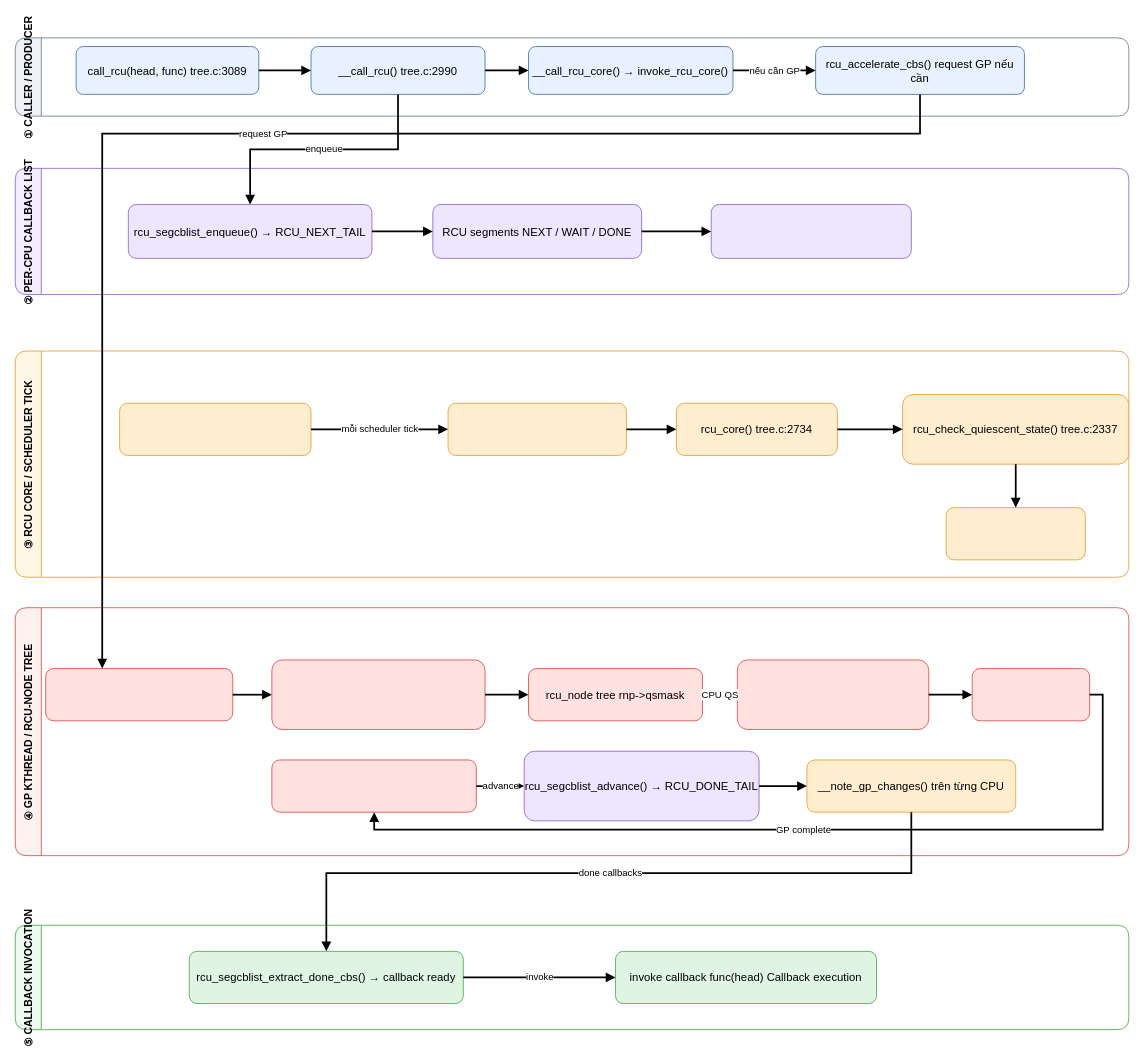
This 1144x1061 diagram has some shape labels left out. Here are the shapes that lost their labels. From the top down, the box of each, then its label:
(710, 204, 911, 258): Callback đang chờ GP
(119, 402, 311, 455): rcu_sched_clock_irq() tree.c:2612
(447, 402, 626, 455): invoke_rcu_core() tree.c:2628
(945, 507, 1085, 560): note_gp_changes() tree.c:1682 / 1634
(45, 668, 233, 721): rcu_gp_kthread() tree.c:2112
(271, 659, 485, 729): rcu_gp_init() snapshot CPU + tăng gp_seq
(736, 659, 929, 729): rcu_report_qs_rnp() tree.c:2181
(971, 668, 1090, 721): root qsmask == 0 → GP complete
(271, 759, 476, 812): rcu_gp_cleanup() tree.c:2011
